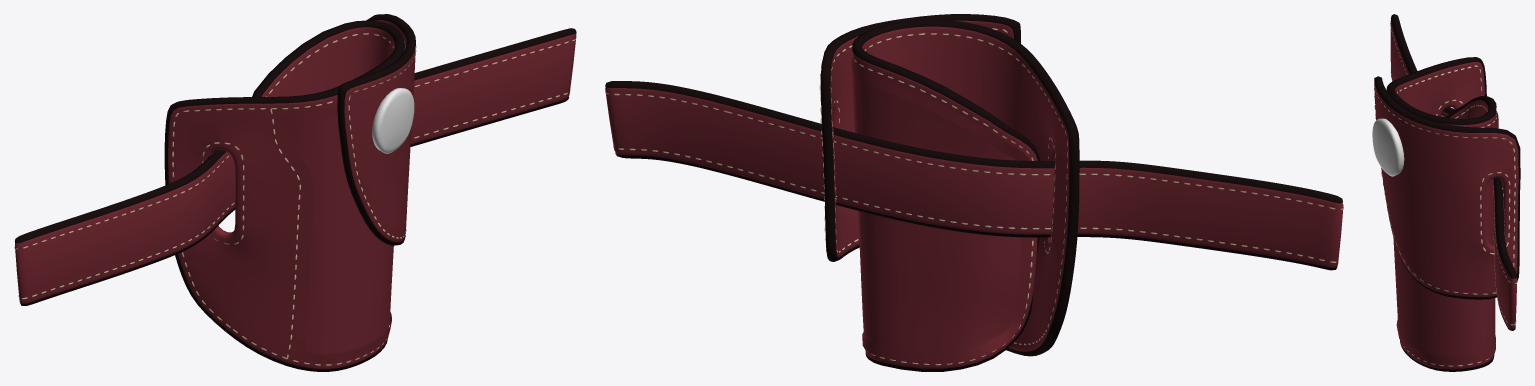
The model's file is Holster.glb.
3 views of the same model, side by side, from view 1: azimuth 30°, elevation 25°; view 2: azimuth 150°, elevation 25°; view 3: azimuth 270°, elevation 25° (orthographic). The views are drawn at different scales.
Visible parts, largest first — view 1: Main, Belt, Main_Pattern, Top, Main_Border.001, Main.001, Belt.001, Top.001, Concho, Stitch.001; view 2: Belt, Main_Pattern, Main, Belt.001, Main.001, Main_Border.001, Top.001, Top, Stitch.009, Stitch.010; view 3: Top, Main_Pattern, Main, Main.001, Belt, Top.001, Belt.001, Concho, Main_Border.001, Stitch.002, Stitch.005, Stitch.
Boxes of the visible parts, x1,y1,x2,y2 form: Main: [168, 27, 395, 369]; Belt: [15, 33, 576, 303]; Main_Pattern: [286, 114, 393, 354]; Top: [344, 20, 415, 242]; Main_Border.001: [275, 50, 404, 363]; Main.001: [164, 20, 404, 371]; Belt.001: [15, 28, 576, 305]; Top.001: [337, 14, 415, 245]; Concho: [372, 88, 414, 153]; Stitch.001: [172, 49, 404, 365]; Belt: [605, 87, 1343, 267]; Main_Pattern: [851, 57, 1026, 353]; Main: [852, 26, 1069, 368]; Belt.001: [605, 81, 1342, 270]; Main.001: [852, 20, 1079, 371]; Main_Border.001: [851, 55, 1032, 363]; Top.001: [820, 14, 1020, 261]; Top: [830, 20, 1013, 257]; Stitch.009: [613, 146, 1336, 262]; Stitch.010: [605, 92, 1343, 209]; Top: [1374, 84, 1518, 297]; Main_Pattern: [1393, 114, 1497, 356]; Main: [1395, 62, 1496, 369]; Main.001: [1386, 57, 1496, 371]; Belt: [1390, 21, 1516, 329]; Top.001: [1374, 76, 1520, 299]; Belt.001: [1390, 14, 1517, 330]; Concho: [1372, 118, 1404, 176]; Main_Border.001: [1396, 111, 1498, 364]; Stitch.002: [1374, 87, 1515, 294]; Stitch.005: [1480, 172, 1510, 254]; Stitch: [1397, 65, 1487, 118].
Bounding box in the file's own units: 6.42 × 2.92 × 1.49.
